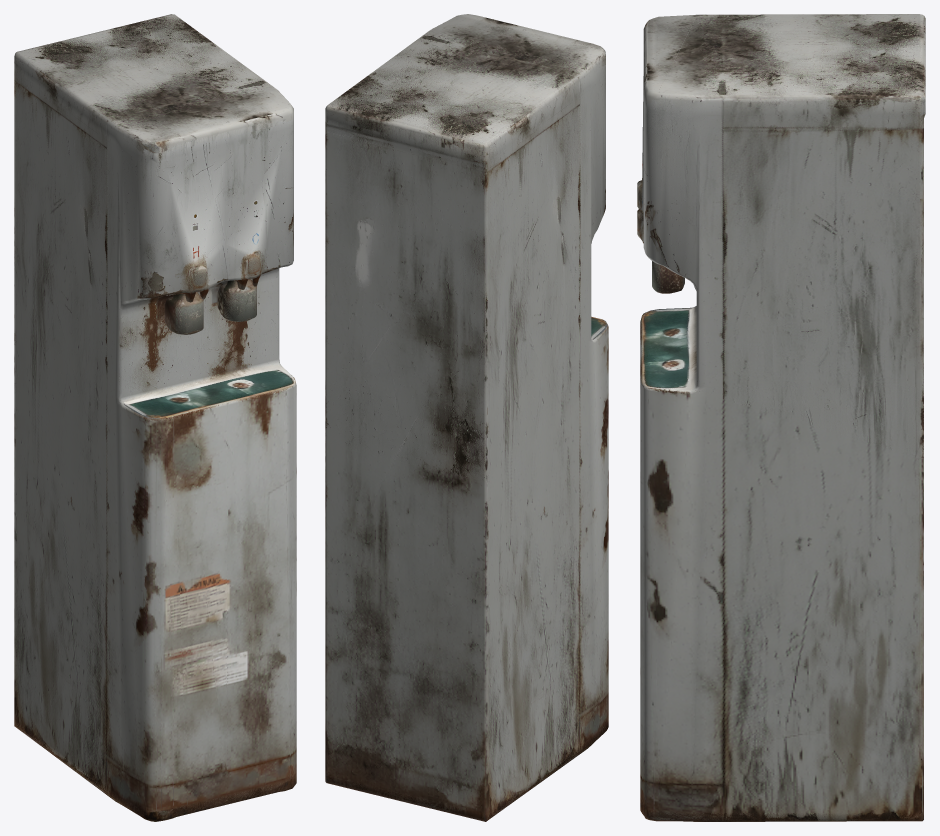
File: Meshy_AI_White_Water_Cooler_0519013655_texture.fbx
3 views of the same model, side by side, from view 1: azimuth 30°, elevation 25°; view 2: azimuth 150°, elevation 25°; view 3: azimuth 270°, elevation 25° (orthographic). The views are drawn at different scales.
Parts seen in each view (by area): view 1: Mesh_0; view 2: Mesh_0; view 3: Mesh_0.
Part boxes in pixels (left/top/right/bottom): Mesh_0: left=14, top=14, right=296, bottom=821; Mesh_0: left=325, top=14, right=608, bottom=821; Mesh_0: left=637, top=14, right=925, bottom=821.
Size of the model in its own units: 47.36 by 191 by 68.49.
1 material, 1 textured.
